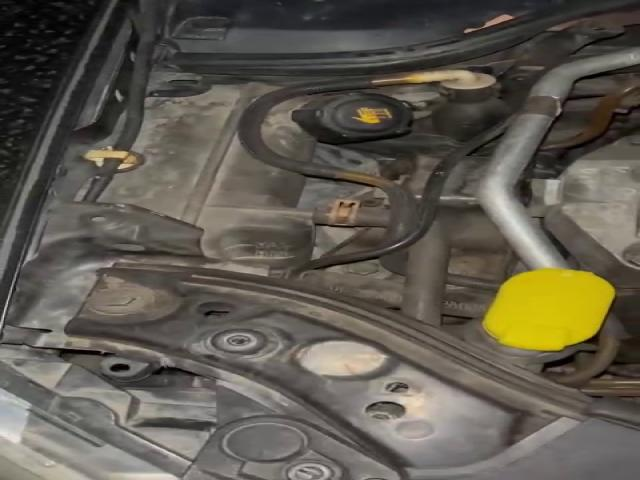antifreeze_tank: (104, 82, 318, 273), (263, 91, 411, 161)
